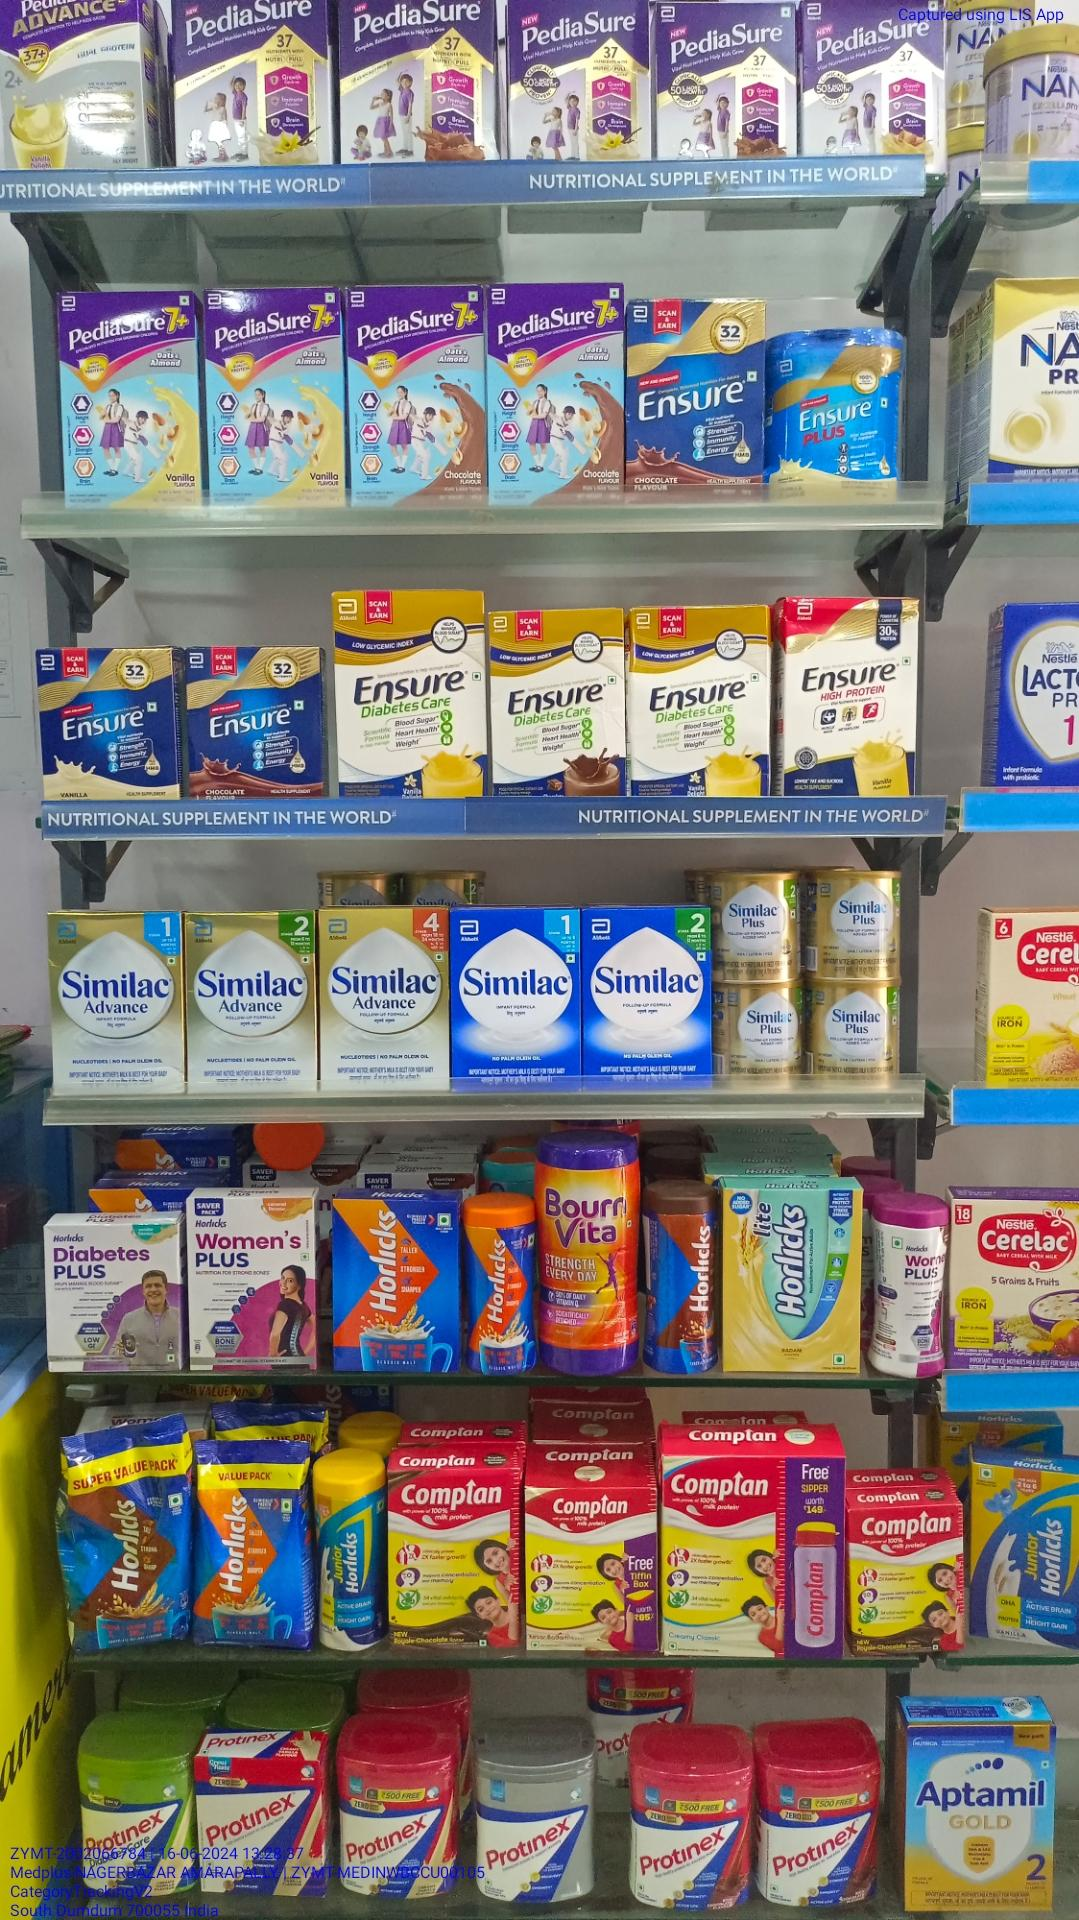BOURN_VITA_1_KG_JAR: (539, 1146, 642, 1378)
COMPLAN_CREAMY_CLASSIC_500_G_PACK: (665, 1455, 839, 1658)
HORLICKS_JUNIOR_VANILLA_500_GM_JAR: (317, 1466, 385, 1652)
HORLICK_CHOCOLATE_200_G_JAR: (650, 1188, 718, 1373)
HORLICK_CHOCOLATE_750_G_POUCH: (61, 1436, 182, 1654)
HORLICK_CLASSIC_MALT_200_G_JAR: (467, 1200, 534, 1378)
PEDIASURE_7_PLUS_CHOCOLATE_400_G_PACK: (351, 290, 484, 514), (489, 285, 620, 505)
PEDIASURE_CHOCOLATE_500_G_PACK: (339, 0, 492, 165), (656, 4, 795, 161)
PEDIASURE_VANILLA_500_G_PACK: (178, 1, 328, 169), (504, 3, 653, 161), (803, 0, 947, 161)
PROTINEX_CHOCOLATE_400_G_JAR: (628, 1762, 753, 1920), (762, 1762, 879, 1909)
PROTINEX_ORIGINAL_400_G_JAR: (474, 1755, 594, 1902)
PROTINEX_VANILLA_400_G_JAR: (339, 1751, 458, 1899)
